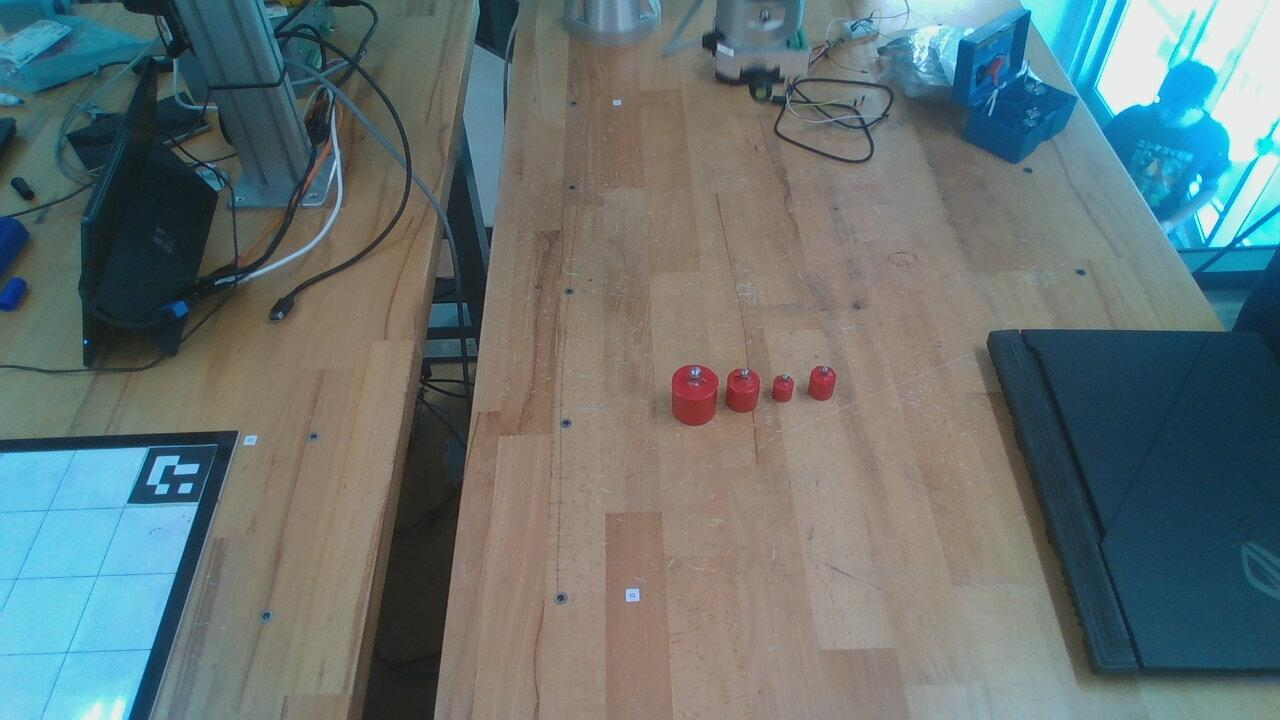red_object: (669, 360, 721, 431), (723, 359, 763, 416), (764, 360, 797, 406), (809, 363, 838, 402)
